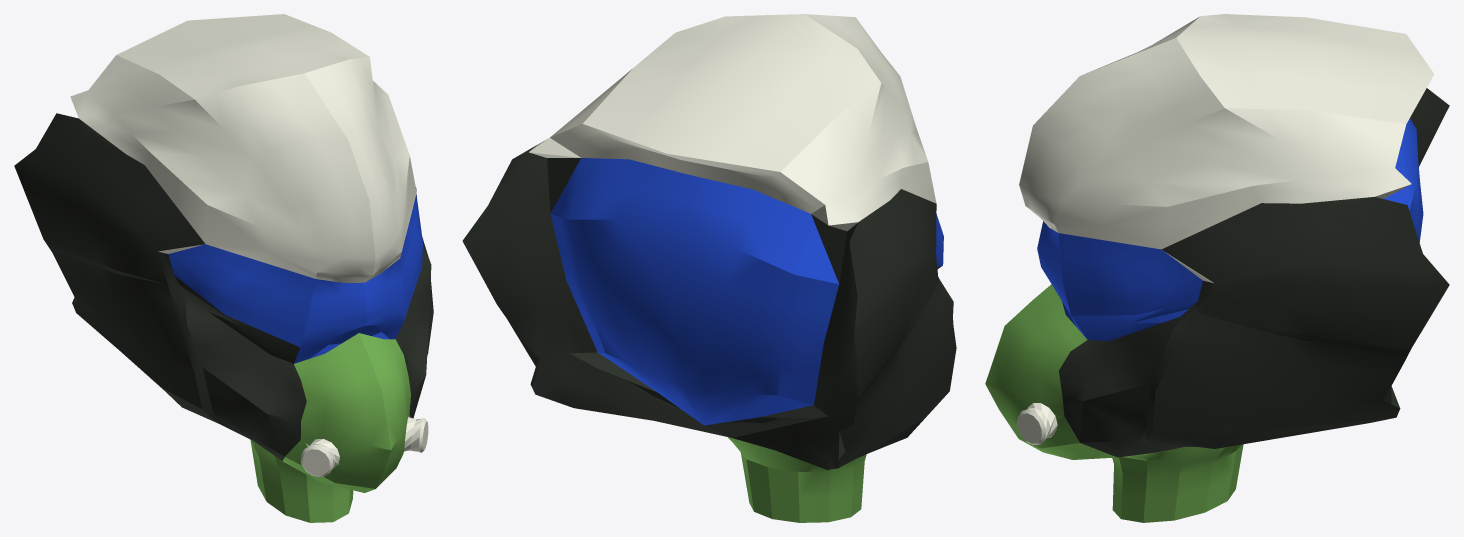
The model's file is Cabeca_4.fbx.
3 views of the same model, side by side, from view 1: azimuth 30°, elevation 25°; view 2: azimuth 150°, elevation 25°; view 3: azimuth 270°, elevation 25° (orthographic). The views are drawn at different scales.
Visible parts, largest first — view 1: Cabeca_4; view 2: Cabeca_4; view 3: Cabeca_4.
Part boxes in pixels (bbox=[...]): Cabeca_4: bbox=[14, 14, 433, 522]; Cabeca_4: bbox=[462, 14, 956, 522]; Cabeca_4: bbox=[985, 14, 1449, 522].
Bounding box in the file's own units: 54.32 × 66.75 × 59.51.
